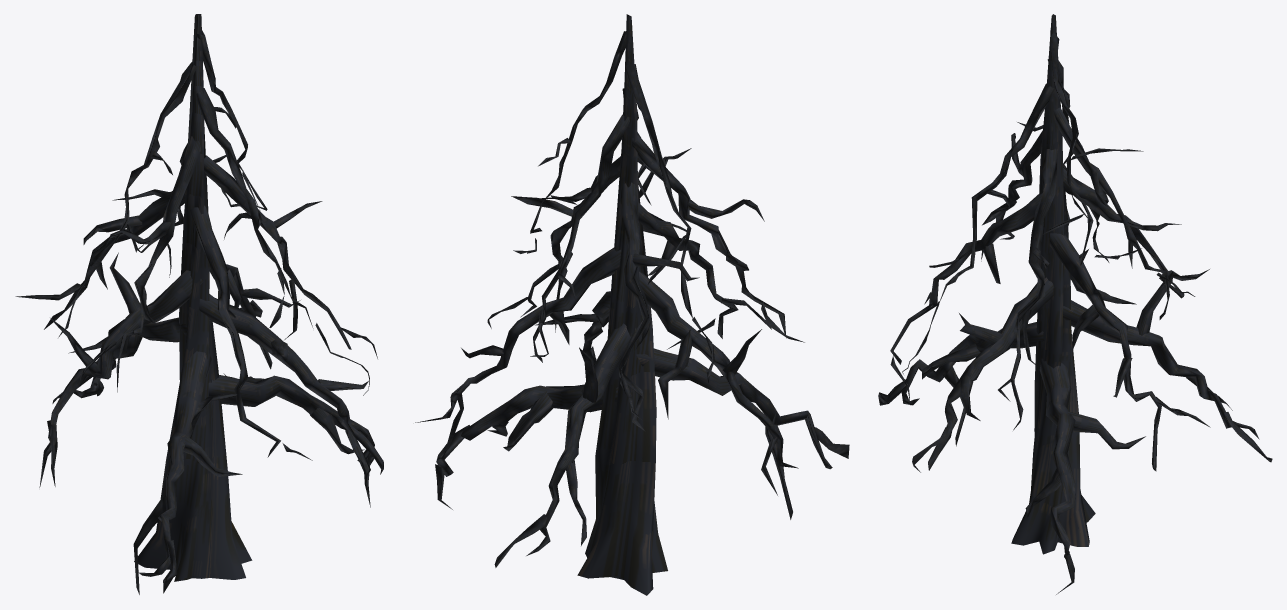
Rendered from Tree2.fbx.
3 renders of one model, left to right at view 1: azimuth 30°, elevation 25°; view 2: azimuth 150°, elevation 25°; view 3: azimuth 270°, elevation 25°, orthographic. The views are drawn at different scales.
Visible parts, largest first — view 1: geo1; view 2: geo1; view 3: geo1.
Boxes of the visible parts, x1,y1,x2,y2 form: geo1: [15, 14, 383, 594]; geo1: [415, 14, 849, 595]; geo1: [878, 14, 1272, 594].
Bounding box in the file's own units: 9.68 × 15.02 × 10.38.
